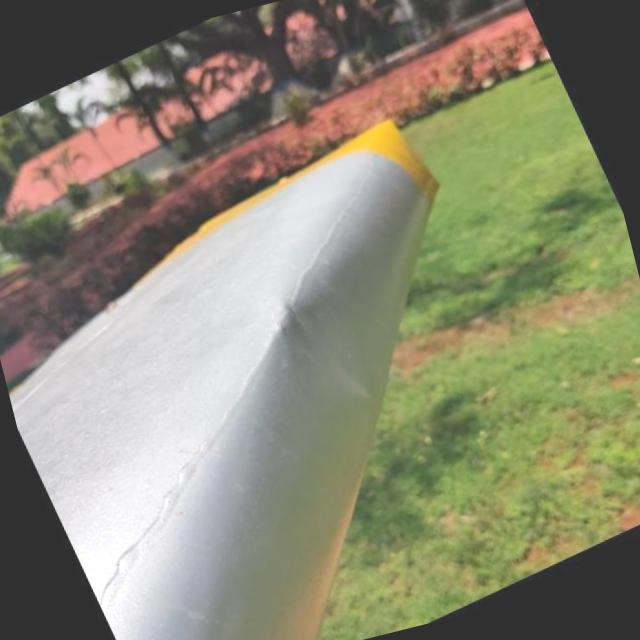dent: (241, 248, 421, 457)
